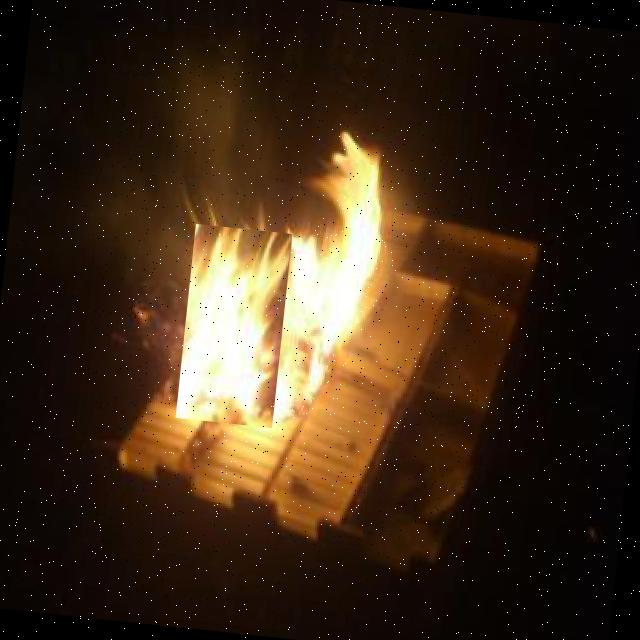fire: (300, 130, 418, 364), (175, 223, 292, 428)
